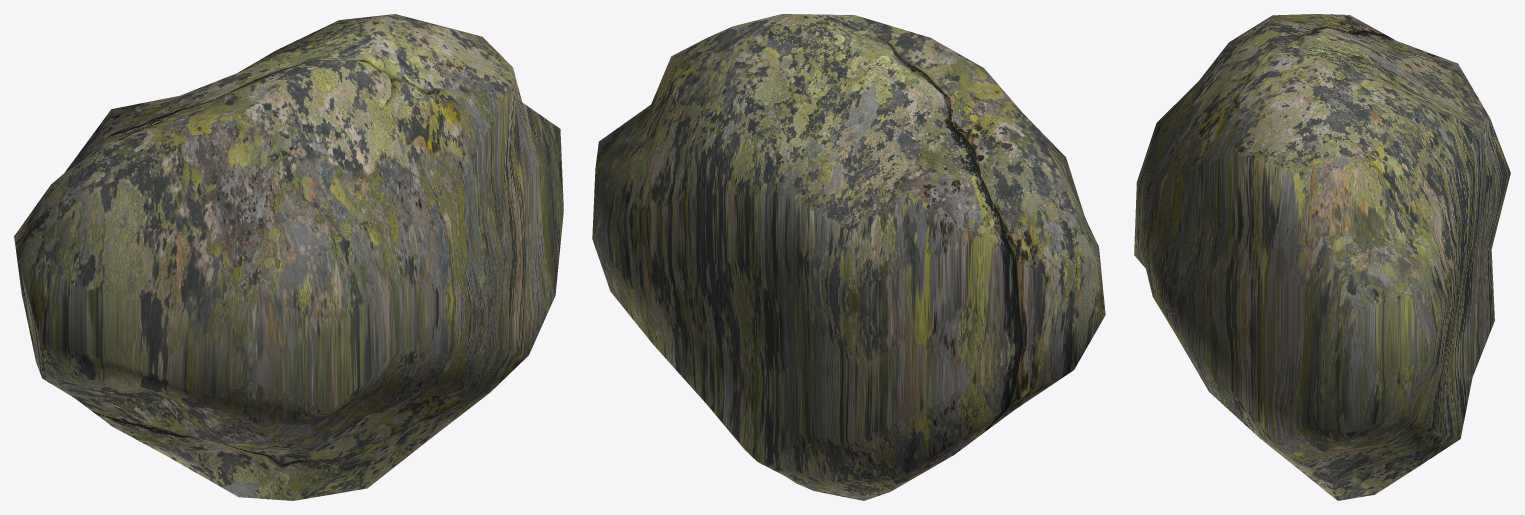
The model's file is boulder_e_lod1.gltf.
3 renders of one model, left to right at view 1: azimuth 30°, elevation 25°; view 2: azimuth 150°, elevation 25°; view 3: azimuth 270°, elevation 25°, orthographic. The views are drawn at different scales.
Visible parts, largest first — view 1: boulder_e_LOD1; view 2: boulder_e_LOD1; view 3: boulder_e_LOD1.
Part boxes in pixels (box(x1,y1,x2,y2)): boulder_e_LOD1: box(14, 14, 563, 500); boulder_e_LOD1: box(592, 14, 1105, 500); boulder_e_LOD1: box(1134, 14, 1510, 500).
Size of the model in its own units: 1.97 by 1.68 by 1.28.
1 material, 1 textured.
